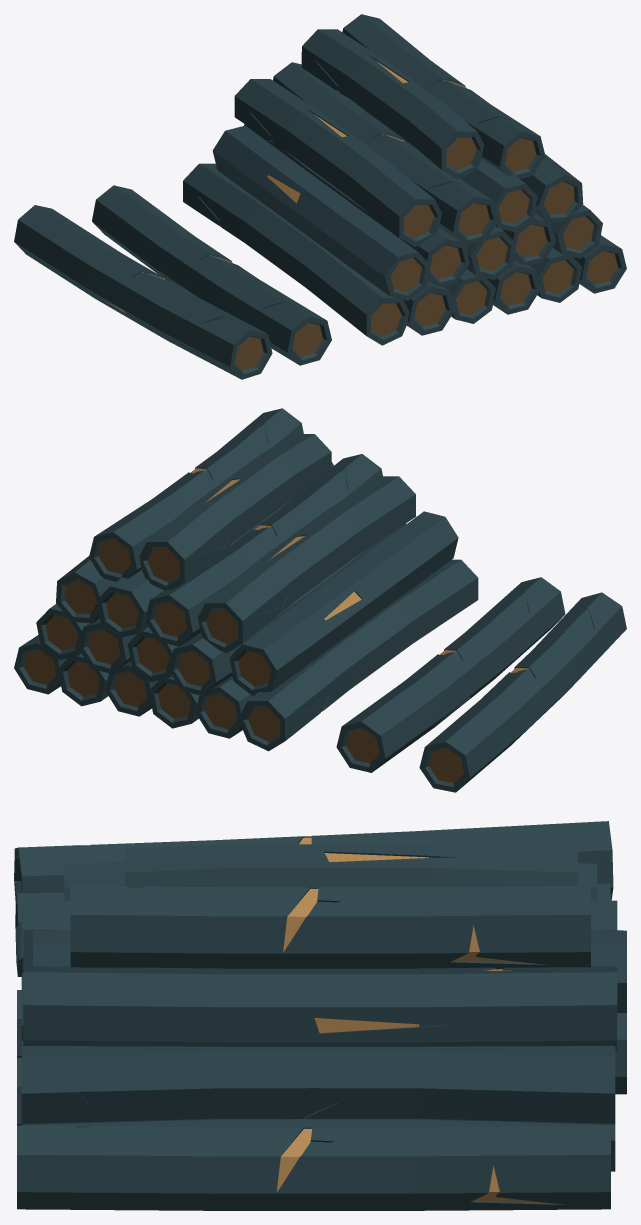
The model's file is props_89.gltf.
3 renders of one model, top to bottom at view 1: azimuth 30°, elevation 25°; view 2: azimuth 150°, elevation 25°; view 3: azimuth 270°, elevation 25°, orthographic. The views are drawn at different scales.
Visible parts, largest first — view 1: props_89; view 2: props_89; view 3: props_89.
Boxes of the visible parts, box(x1,y1,x2,y2) form: props_89: box(14, 14, 626, 379); props_89: box(14, 408, 626, 792); props_89: box(14, 821, 626, 1210).
Size of the model in its own units: 1.09 by 0.4065 by 0.8292.
Materials: 1 (1 with a texture image).
